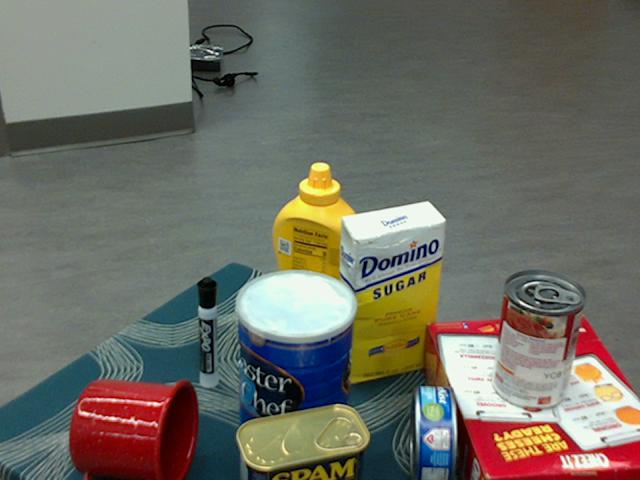cracker_box: (420, 316, 639, 479)
large_marker: (196, 276, 216, 387)
master_chef_can: (236, 270, 357, 466)
mug: (68, 378, 198, 479)
mustard_bottle: (270, 162, 363, 345)
potted_meat_can: (235, 404, 369, 479)
sugar_box: (334, 203, 446, 385)
tomato_soup_can: (490, 271, 584, 411)
tuna_fish_can: (411, 386, 457, 479)
